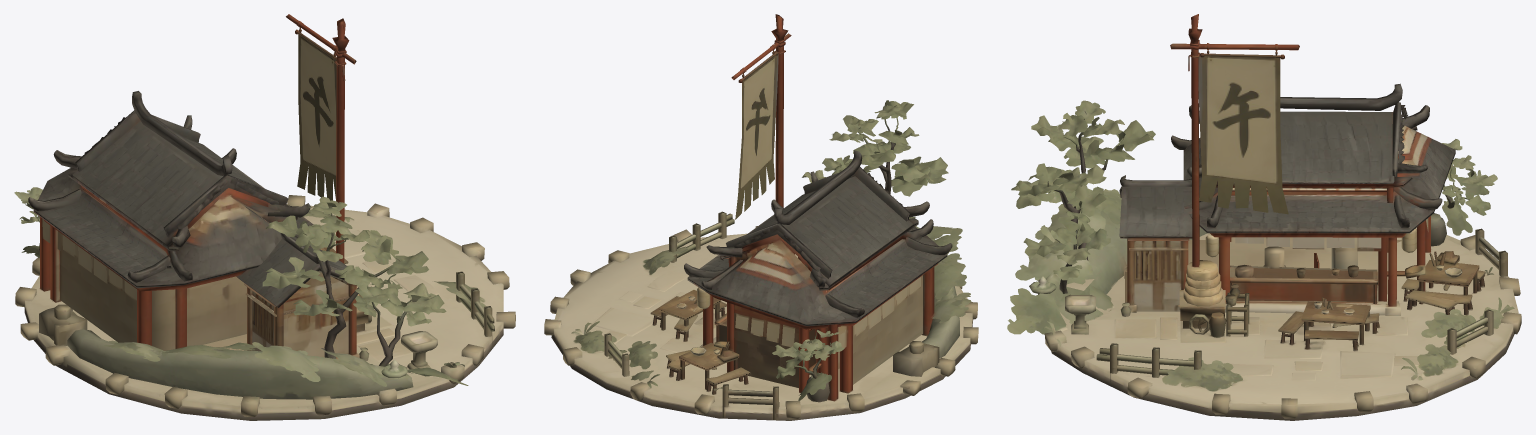
The model's file is noon.glb.
3 renders of one model, left to right at view 1: azimuth 30°, elevation 25°; view 2: azimuth 150°, elevation 25°; view 3: azimuth 270°, elevation 25°, orthographic. The views are drawn at different scales.
Visible parts, largest first — view 1: 73abcef0-c131-4a96-9daf-a731984ae803; view 2: 73abcef0-c131-4a96-9daf-a731984ae803; view 3: 73abcef0-c131-4a96-9daf-a731984ae803.
Part boxes in pixels (<box>): 73abcef0-c131-4a96-9daf-a731984ae803: <box>14,14,515,420</box>; 73abcef0-c131-4a96-9daf-a731984ae803: <box>544,14,978,420</box>; 73abcef0-c131-4a96-9daf-a731984ae803: <box>1007,14,1521,420</box>.
Size of the model in its own units: 0.9595 by 0.689 by 0.9995.
1 material, 1 textured.
